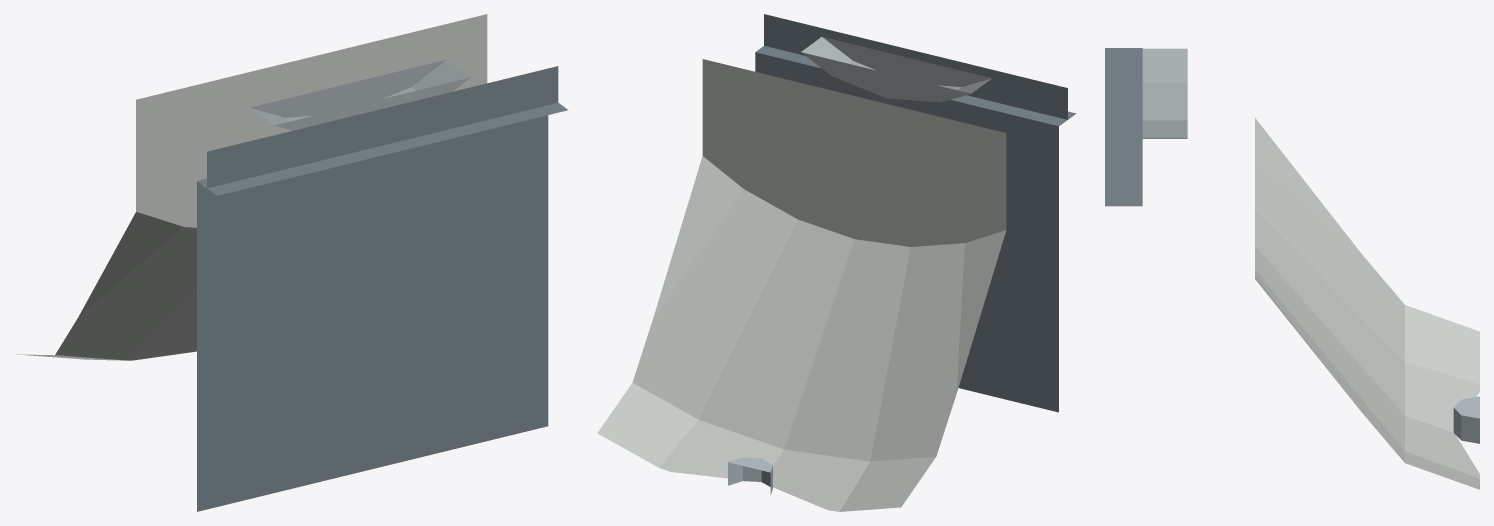
Rendered from cell_82.obj.
3 views of the same model, side by side, from view 1: azimuth 30°, elevation 25°; view 2: azimuth 150°, elevation 25°; view 3: azimuth 270°, elevation 25° (orthographic). The views are drawn at different scales.
Bounding box in the file's own units: 1 × 1 × 1.
